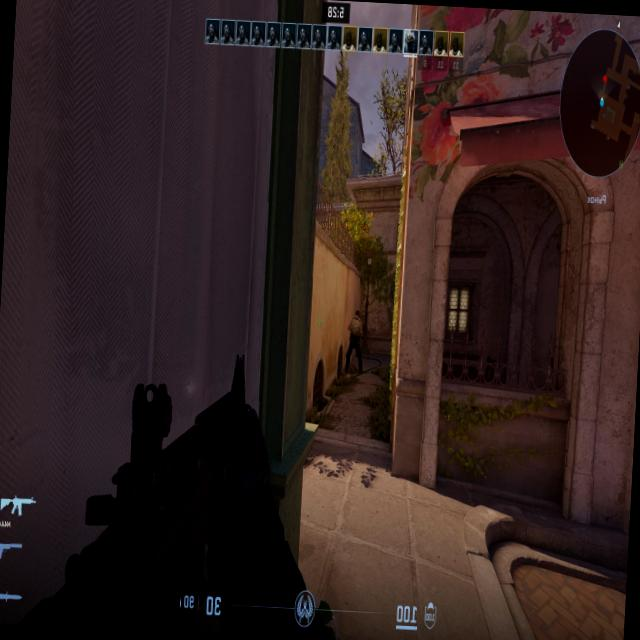T: (346, 310, 364, 372)
T_heat: (354, 308, 360, 320)
